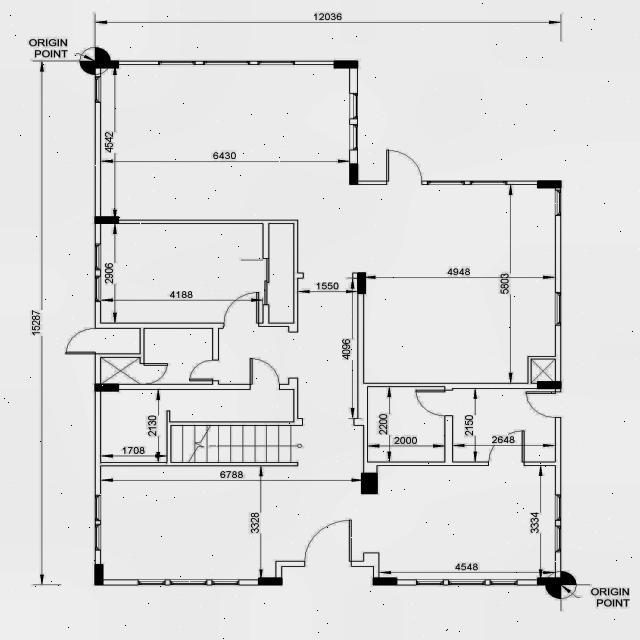Column: (361, 472, 378, 494), (95, 564, 104, 586), (357, 272, 366, 294), (349, 163, 358, 185), (95, 60, 119, 68), (258, 578, 282, 586), (373, 578, 397, 586), (537, 578, 561, 586), (537, 381, 561, 389), (334, 60, 358, 68), (538, 180, 562, 188), (95, 216, 118, 224), (95, 384, 118, 392)
Door: (304, 519, 352, 567), (223, 292, 259, 329), (488, 430, 524, 466), (387, 149, 422, 185), (416, 387, 454, 416), (526, 390, 562, 418), (250, 358, 280, 390), (66, 328, 96, 354), (189, 360, 219, 384), (140, 364, 168, 384)
Sliding Door: (263, 258, 269, 305)
Staircase: (172, 426, 298, 462)
Window: (170, 580, 208, 586), (448, 580, 486, 586), (350, 124, 358, 150), (350, 93, 358, 119), (555, 292, 561, 326), (203, 61, 250, 65), (138, 580, 166, 586), (212, 580, 240, 586), (416, 580, 444, 586), (490, 580, 518, 586), (555, 188, 561, 216), (95, 76, 101, 102), (95, 244, 101, 270), (95, 276, 101, 302), (95, 495, 101, 521), (95, 524, 101, 550), (555, 526, 561, 552), (555, 494, 561, 520), (158, 61, 196, 65), (258, 61, 296, 65), (428, 181, 464, 185), (471, 181, 506, 185)
